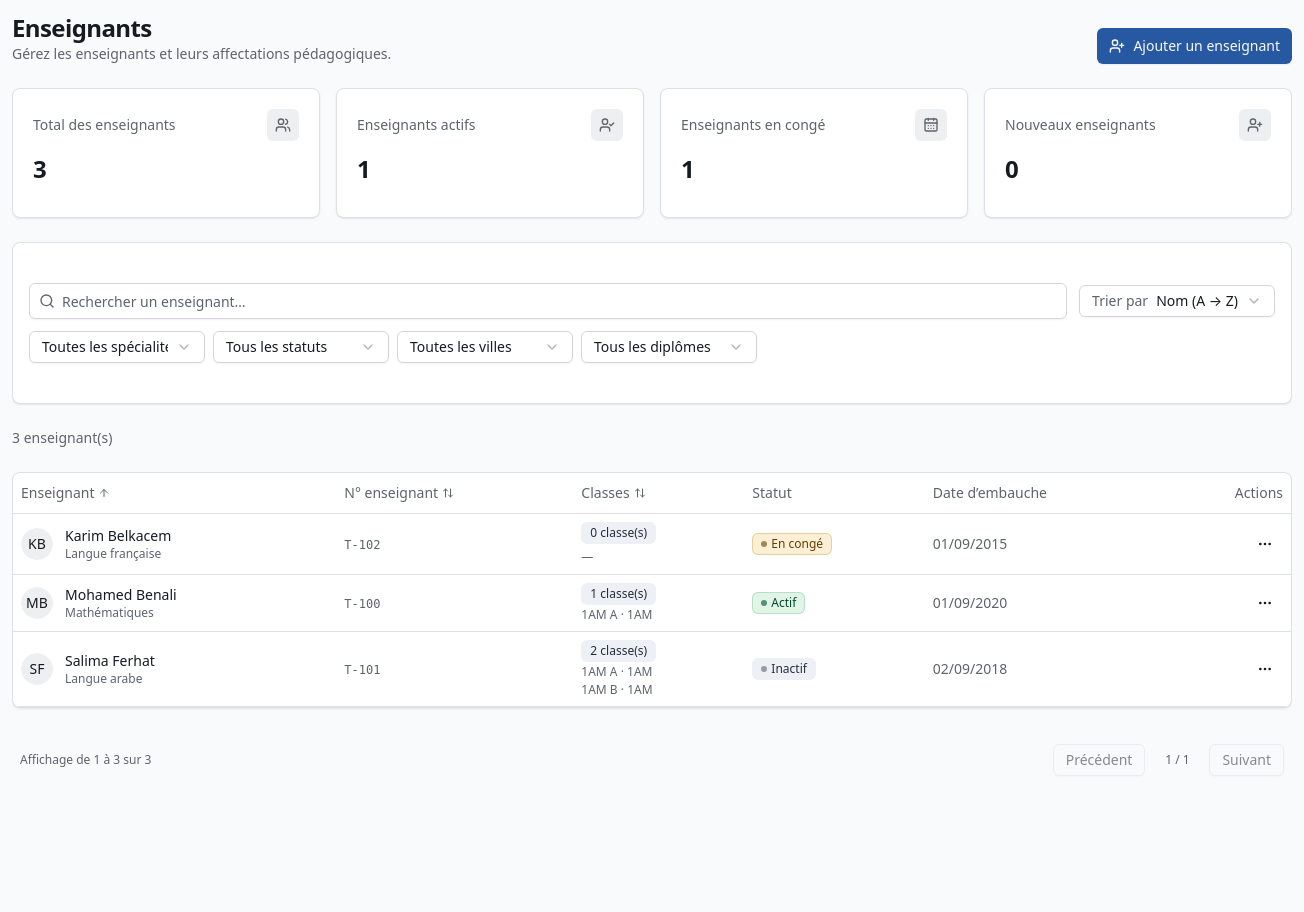
Test case: TeachersPage › filters by specialty via the select
expect the link "Mohamed Benali" is shown: met, box [65,584,177,604]
Click the dropdown labelled "Toutes les spécialités": (117, 347) [29,331,205,363]
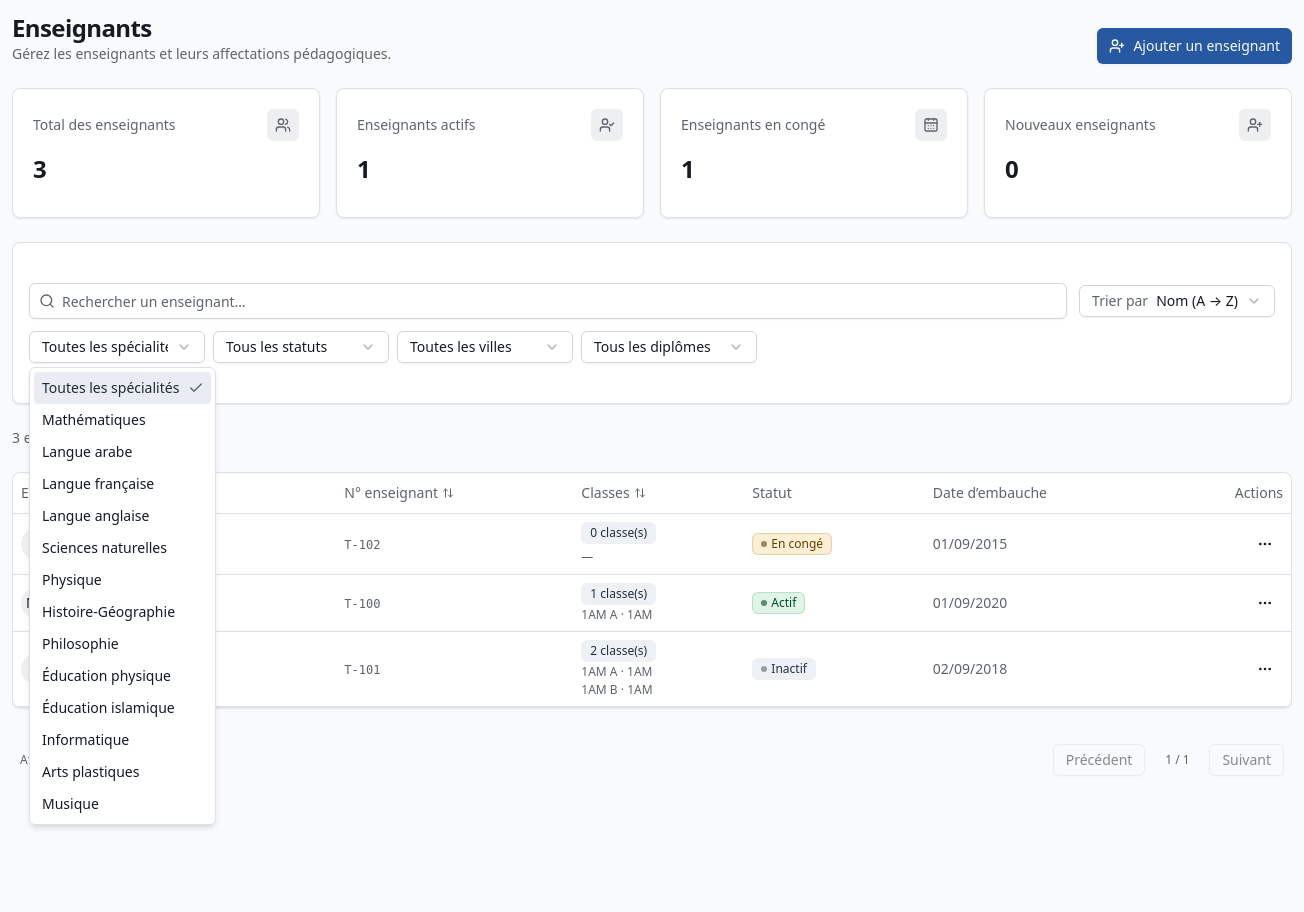
Click the option "Mathématiques": (94, 420) [42,410,146,429]
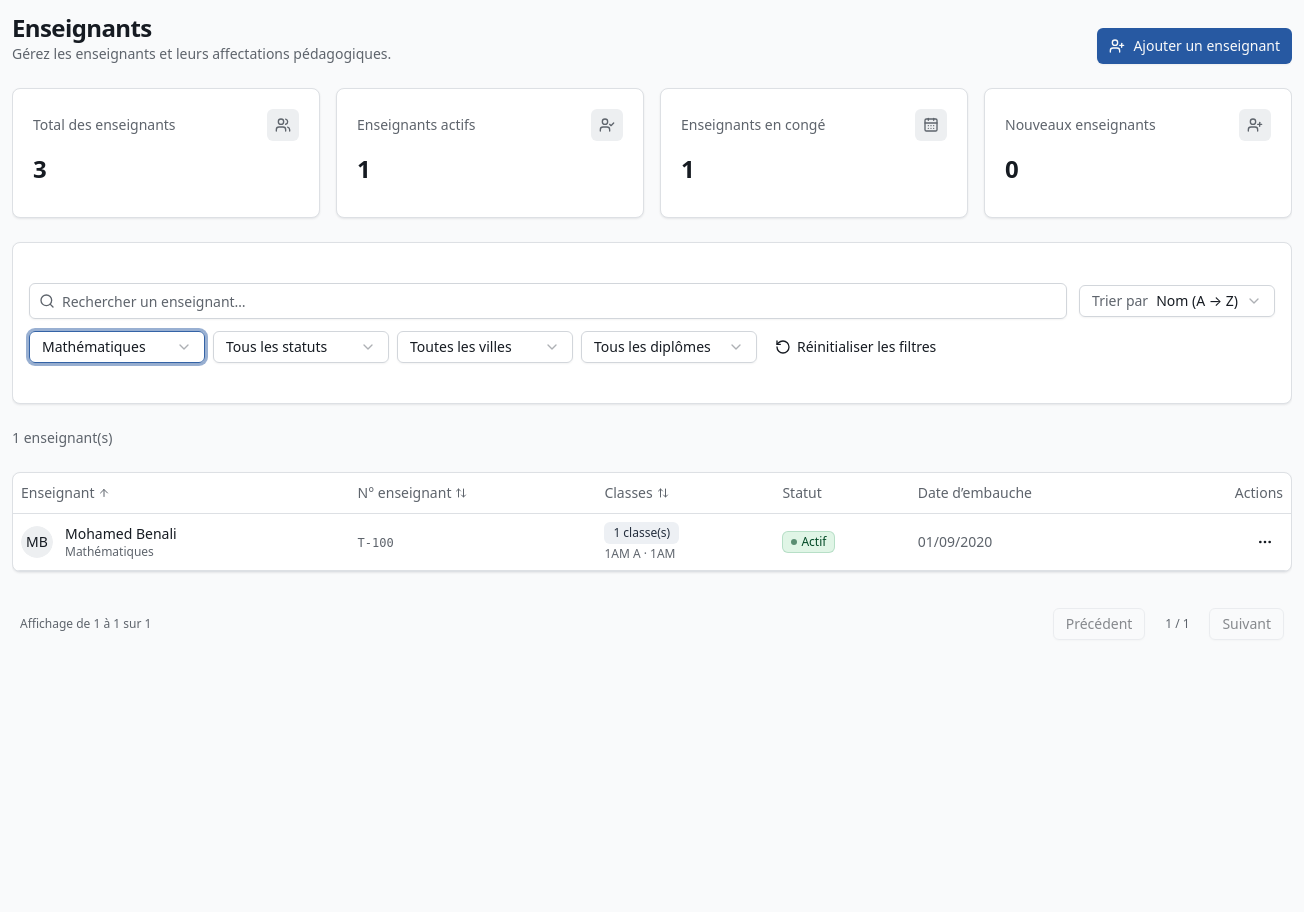
expect the link "Mohamed Benali" is shown: met, box [65,524,177,542]
expect the link "Karim Belkacem" is gone: met
